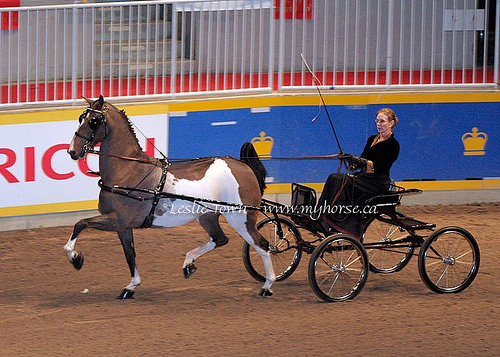horse: (65, 95, 276, 300)
